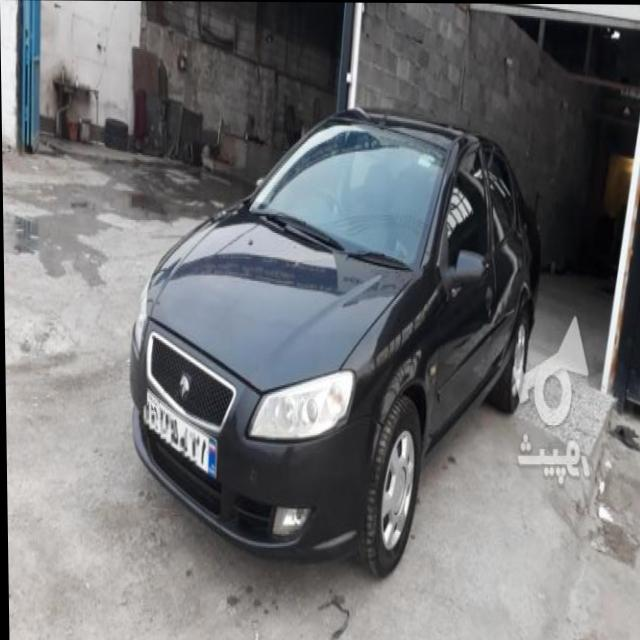licence: (138, 384, 218, 474)
